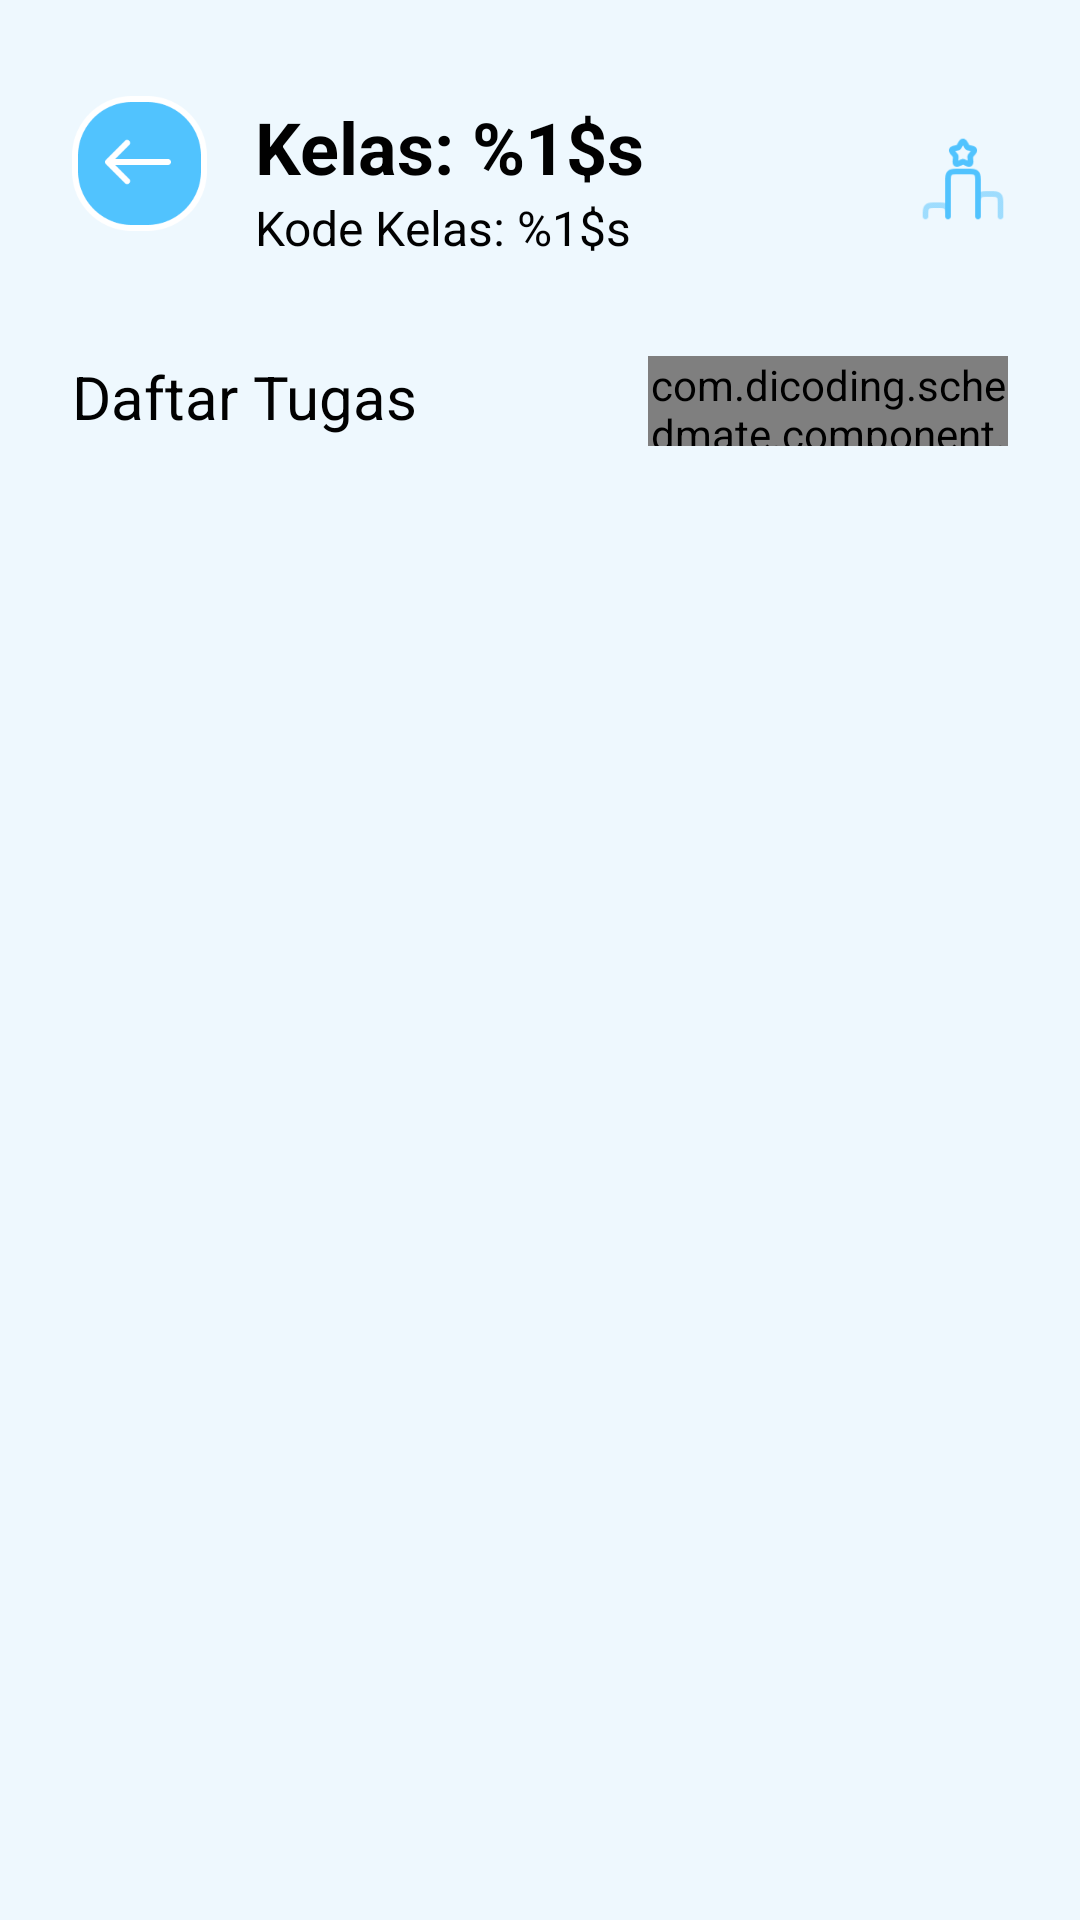

Named icons in this screenshot (1080 x 1920) and their bounding boxes, (x1, y1, x2, y2):
back: (78, 102, 201, 225)
rank: (923, 138, 1003, 220)
